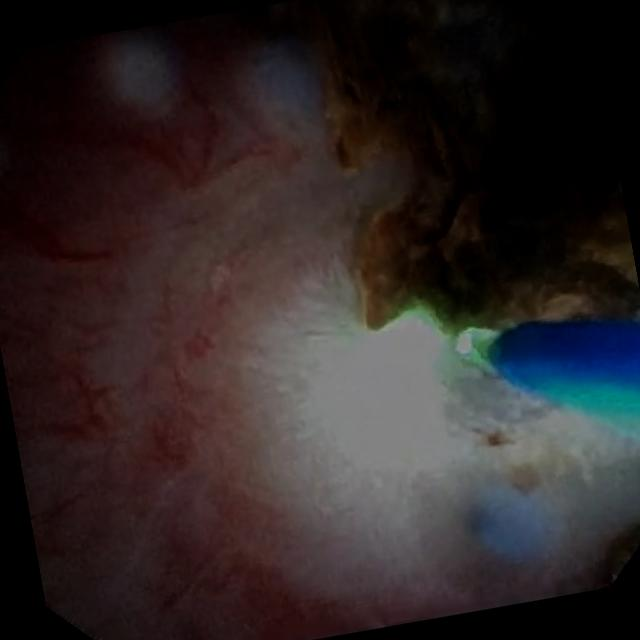laser-fibre: (457, 327, 499, 368)
laser_dot: (399, 326, 436, 368)
stone-new: (293, 0, 640, 333)
